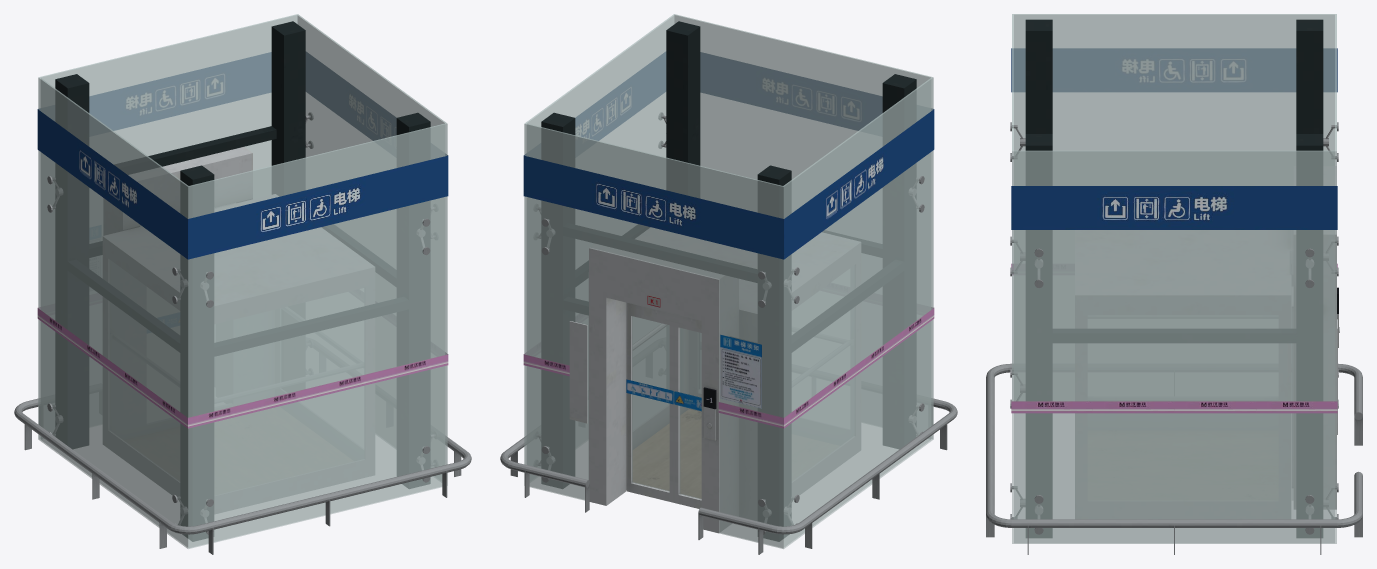
The picture shows the model from 3 angles, left to right: view 1: azimuth 30°, elevation 25°; view 2: azimuth 150°, elevation 25°; view 3: azimuth 270°, elevation 25°; orthographic projection. The views are drawn at different scales.
Visible parts, largest first — view 1: 垂直电梯; view 2: 垂直电梯; view 3: 垂直电梯.
Part boxes in pixels (box(x1,y1,x2,y2)): 垂直电梯: box(14, 14, 471, 554); 垂直电梯: box(500, 14, 957, 554); 垂直电梯: box(986, 14, 1362, 554).
Size of the model in its own units: 3.48 by 4 by 3.48.
Materials: 2 (2 with a texture image).
